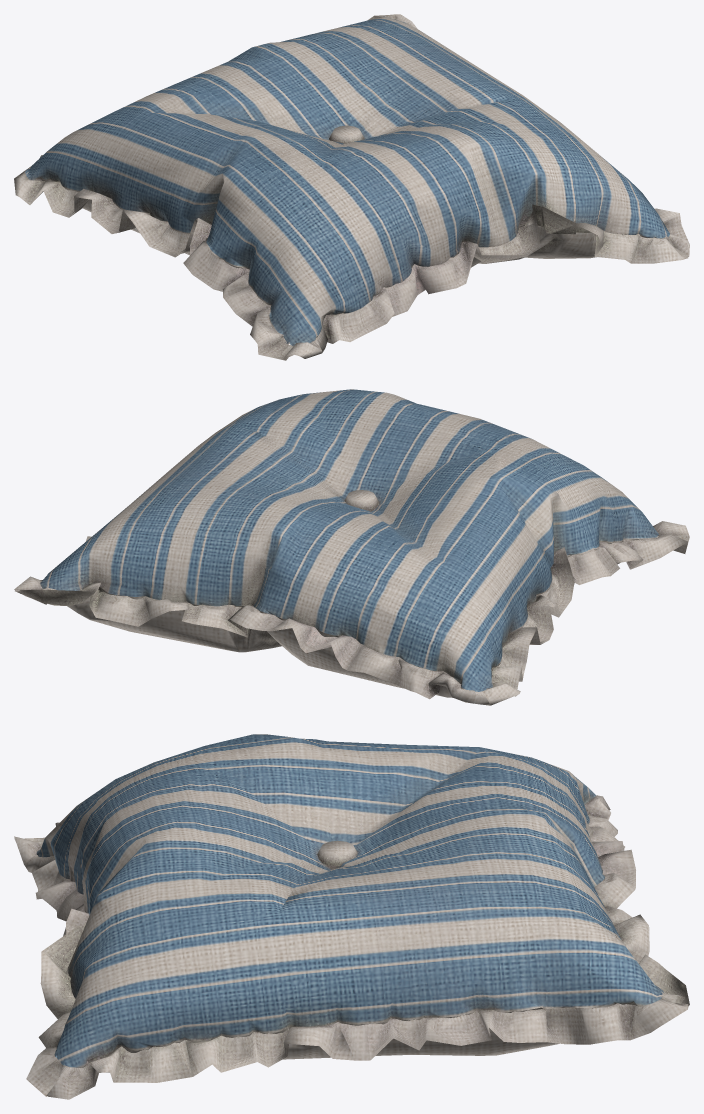
File: SofaPillow.FBX
3 views of the same model, one above another, from view 1: azimuth 30°, elevation 25°; view 2: azimuth 150°, elevation 25°; view 3: azimuth 270°, elevation 25° (orthographic). The views are drawn at different scales.
Visible parts, largest first — view 1: SofaPillow_LOD0; view 2: SofaPillow_LOD0; view 3: SofaPillow_LOD0.
Part boxes in pixels (x1,y1,x2,y2): SofaPillow_LOD0: (14,14,689,360); SofaPillow_LOD0: (14,389,689,705); SofaPillow_LOD0: (14,734,689,1099).
Size of what is drawn, in the model's own units: 53.07 by 13.52 by 52.94.
